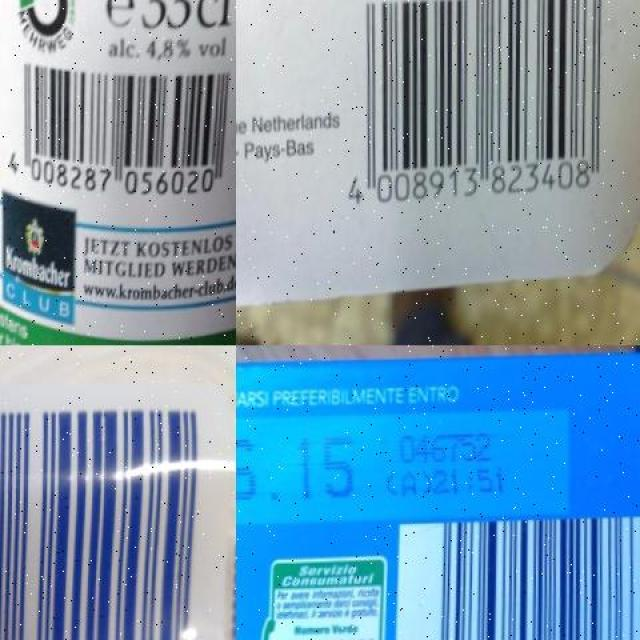Barcode: (341, 0, 617, 217), (0, 390, 213, 640), (1, 51, 236, 208), (396, 516, 640, 640)
